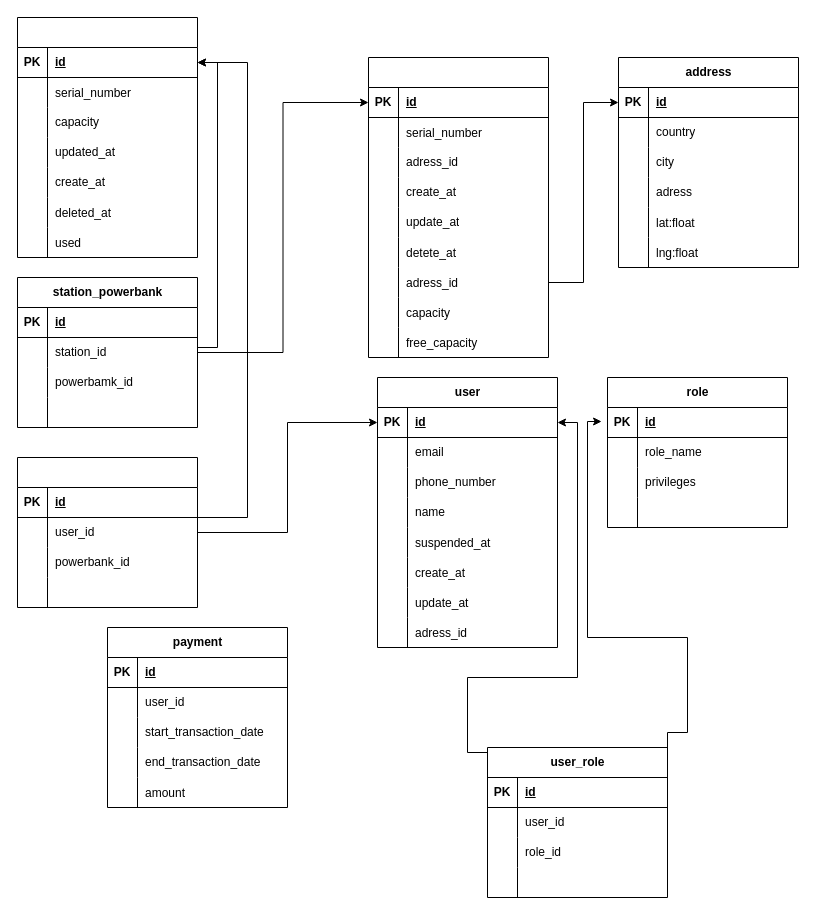
The diagram is 816 pixels wide and 915 high, and some of its shapes have lost their labels. Each missing label, with the box of its shape:
powerbank: (16, 16, 198, 258)
station: (368, 56, 548, 358)
user_powerbank: (16, 456, 198, 608)
